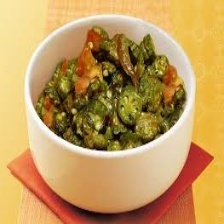sabzi: (35, 24, 186, 149)
